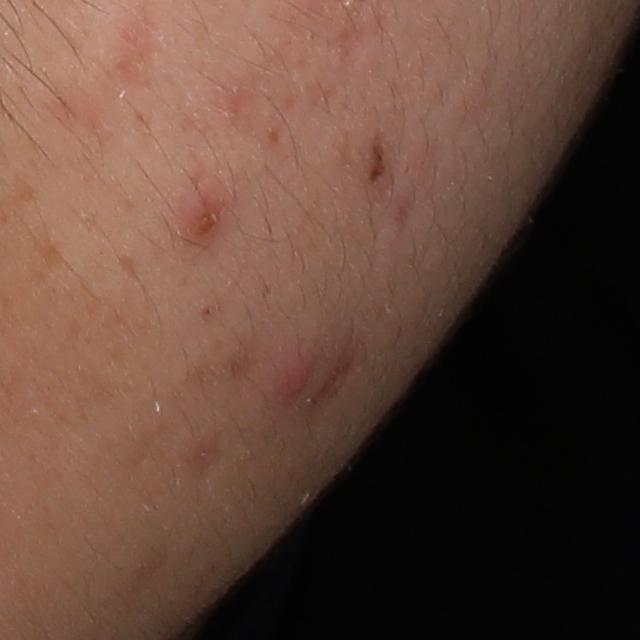nevus: (366, 133, 386, 188)
papule: (181, 195, 225, 245), (276, 358, 309, 395)
